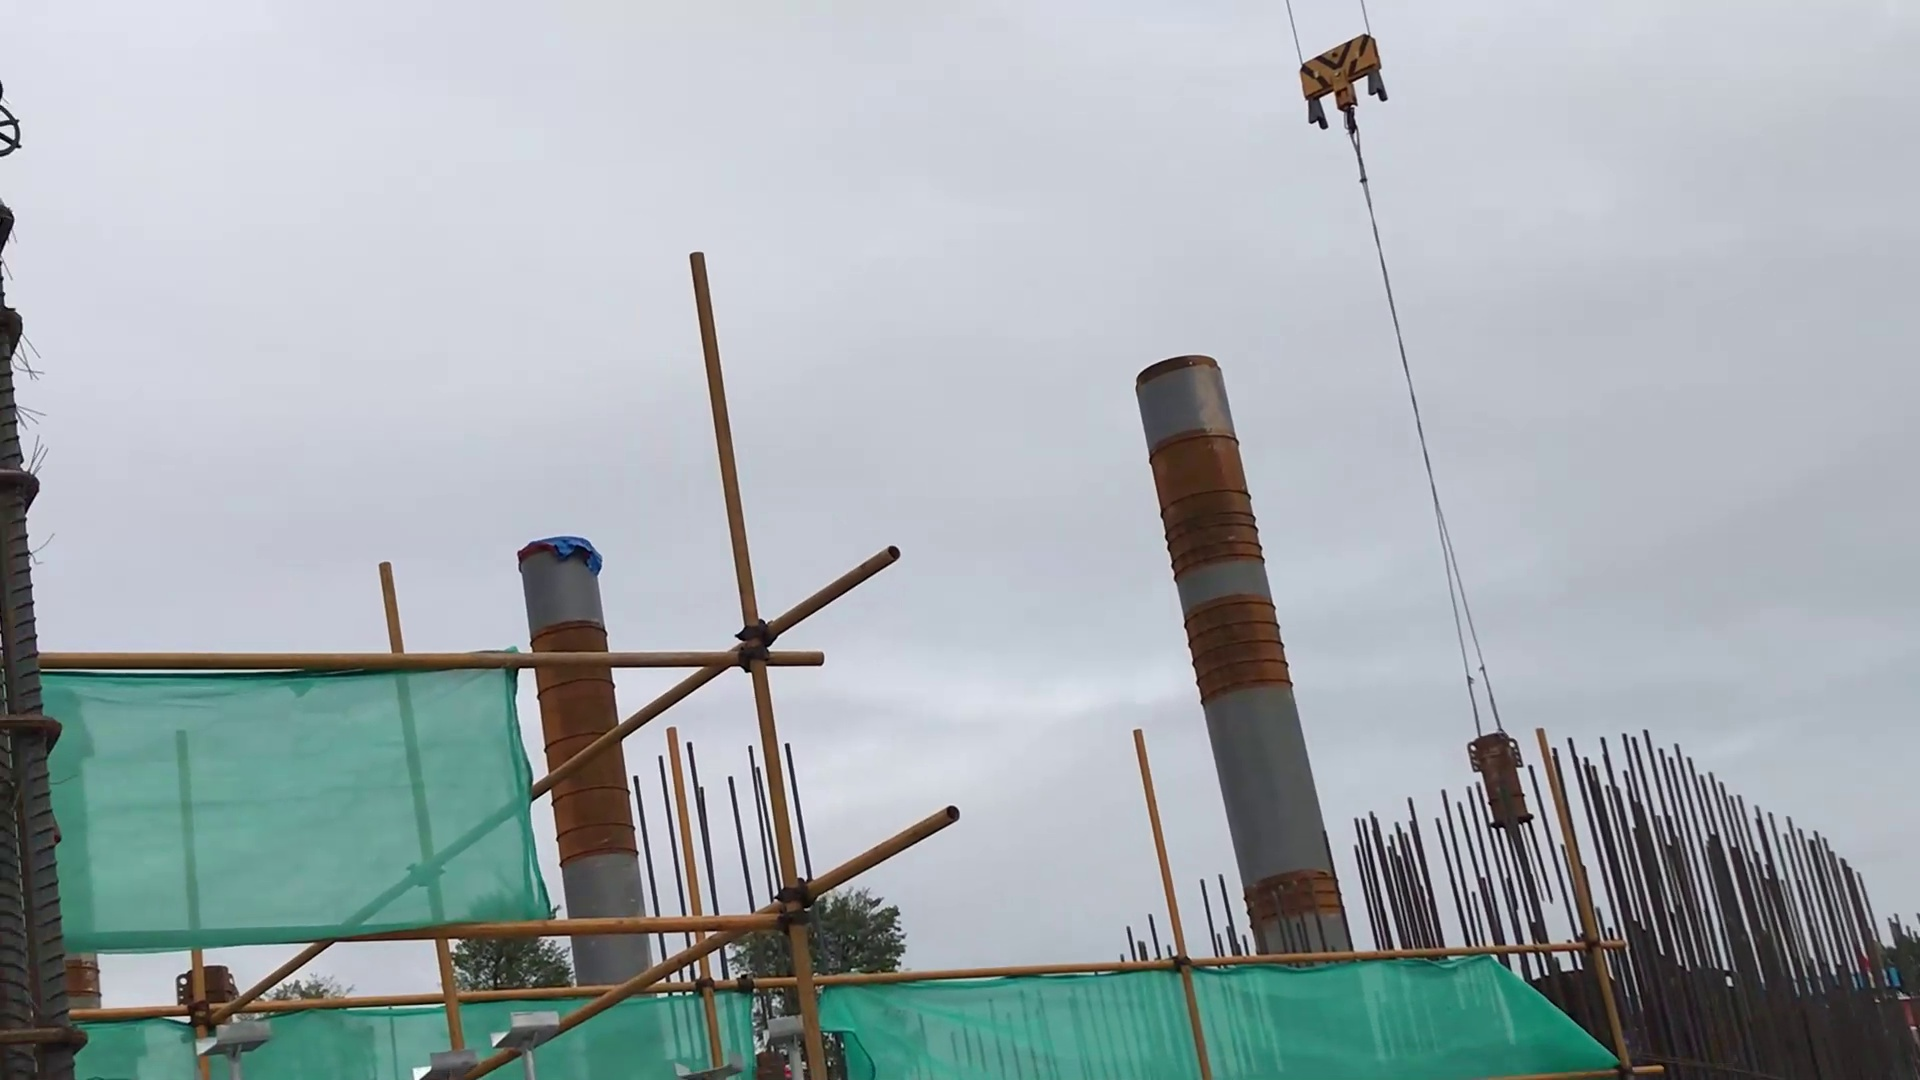hook: (1288, 22, 1399, 142)
